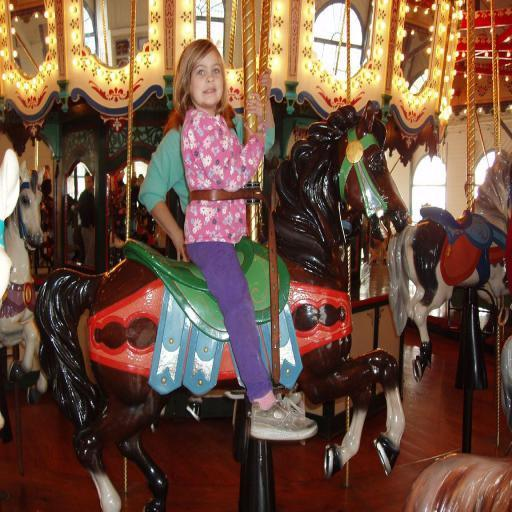horse: (32, 96, 410, 512), (388, 150, 512, 382), (404, 334, 512, 512), (0, 159, 50, 408), (0, 146, 21, 445)
